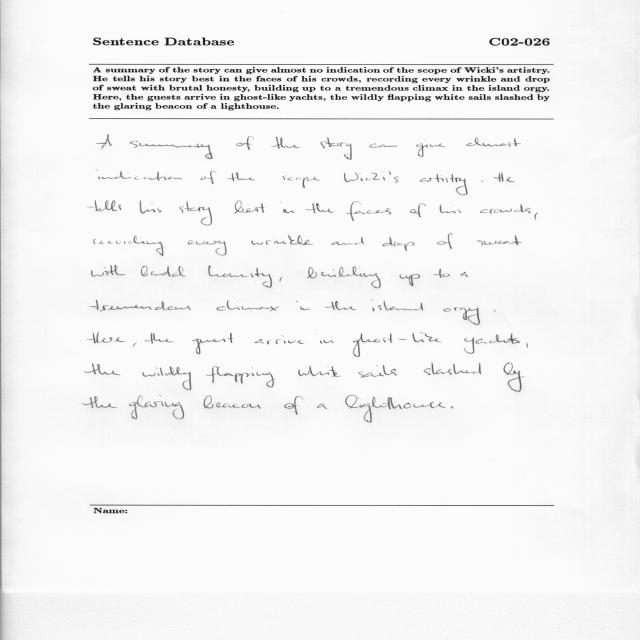word: (345, 395, 446, 423), (353, 332, 441, 357), (307, 266, 381, 289), (130, 141, 213, 159), (207, 366, 276, 387), (208, 266, 272, 288), (94, 236, 164, 256), (129, 395, 184, 419), (464, 333, 520, 354), (143, 367, 192, 390), (91, 300, 191, 311), (420, 174, 468, 195), (347, 201, 391, 221), (192, 333, 233, 354), (203, 395, 261, 409), (179, 202, 212, 226), (99, 172, 182, 181), (321, 137, 352, 160), (217, 300, 280, 311), (424, 363, 481, 375), (443, 307, 480, 325), (188, 240, 227, 256), (251, 235, 313, 245), (504, 363, 524, 392), (371, 300, 423, 311), (416, 139, 445, 157), (480, 204, 531, 214), (466, 138, 521, 147), (477, 235, 522, 246), (141, 266, 186, 277), (359, 171, 399, 183), (298, 366, 341, 377), (358, 365, 397, 377), (382, 237, 415, 251), (86, 363, 121, 376), (255, 336, 305, 345), (283, 176, 320, 188), (83, 396, 117, 408), (90, 332, 126, 343), (235, 201, 265, 214), (91, 266, 125, 277), (284, 396, 303, 415), (90, 201, 122, 211), (145, 333, 174, 344), (272, 137, 300, 148), (306, 203, 334, 214), (325, 301, 357, 310), (140, 201, 161, 214), (332, 237, 365, 245), (227, 172, 255, 181), (399, 274, 420, 286), (437, 233, 452, 249), (236, 136, 252, 150), (97, 135, 112, 149), (494, 172, 515, 182), (410, 203, 425, 217), (201, 171, 217, 184), (440, 205, 461, 214), (281, 202, 295, 213), (433, 269, 450, 278), (369, 143, 397, 148), (344, 173, 358, 182), (296, 301, 310, 310), (320, 340, 334, 344), (317, 404, 327, 409), (461, 272, 468, 277), (535, 213, 538, 220), (280, 277, 283, 282), (133, 343, 136, 347), (526, 343, 528, 348), (450, 407, 454, 409), (481, 180, 483, 182), (494, 310, 495, 312)
